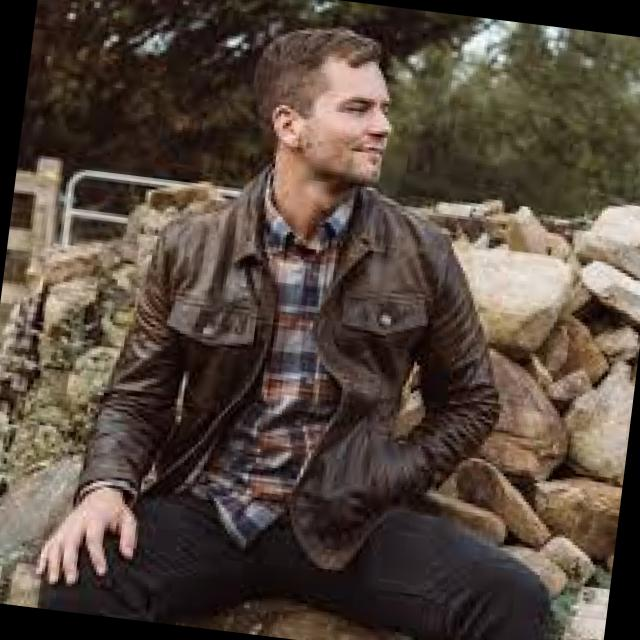Jacket: (62, 162, 548, 596)
